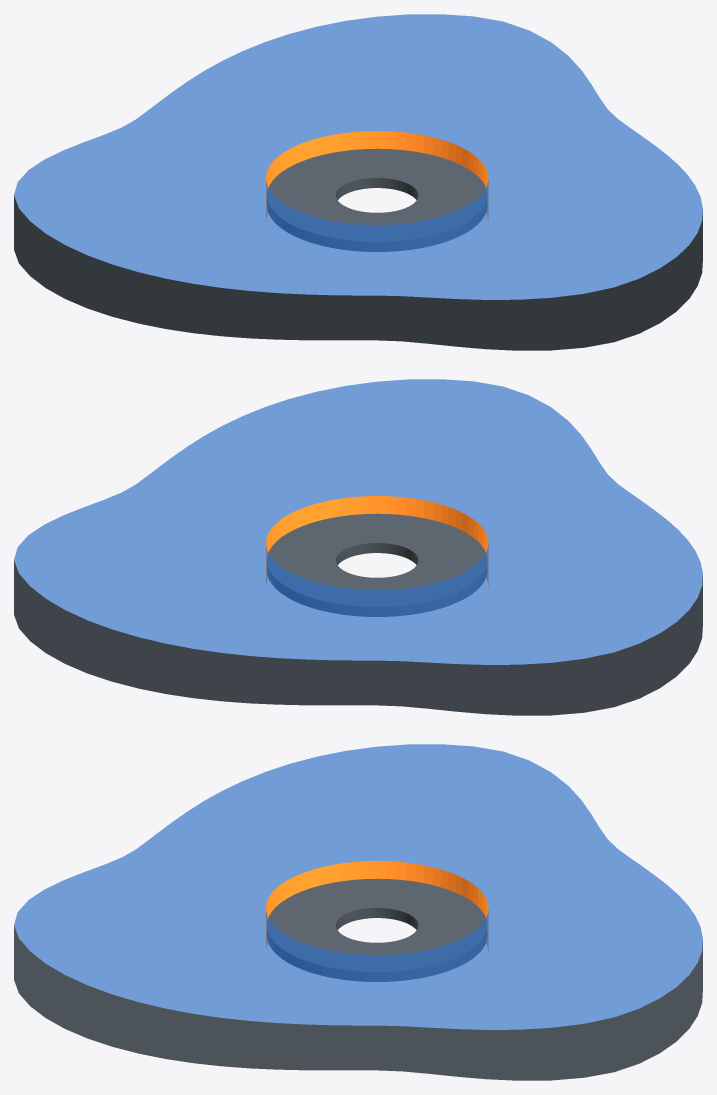
The model's file is blade_storm_fang.glb.
The picture shows the model from 3 angles, top to bottom: view 1: azimuth 30°, elevation 25°; view 2: azimuth 150°, elevation 25°; view 3: azimuth 270°, elevation 25°; orthographic projection.
Parts seen in each view (by area): view 1: GEO_blade_storm_fang_BODY, GEO_blade_storm_fang_NSS_V1_COLLAR; view 2: GEO_blade_storm_fang_BODY, GEO_blade_storm_fang_NSS_V1_COLLAR; view 3: GEO_blade_storm_fang_BODY, GEO_blade_storm_fang_NSS_V1_COLLAR.
Boxes of the visible parts, <box> form: GEO_blade_storm_fang_BODY: <box>14,14,702,350</box>; GEO_blade_storm_fang_NSS_V1_COLLAR: <box>267,148,486,251</box>; GEO_blade_storm_fang_BODY: <box>14,379,702,715</box>; GEO_blade_storm_fang_NSS_V1_COLLAR: <box>267,513,486,616</box>; GEO_blade_storm_fang_BODY: <box>14,744,702,1080</box>; GEO_blade_storm_fang_NSS_V1_COLLAR: <box>267,878,486,981</box>.
Bounding box in the file's own units: 0.0647 × 0.0059 × 0.0669.
